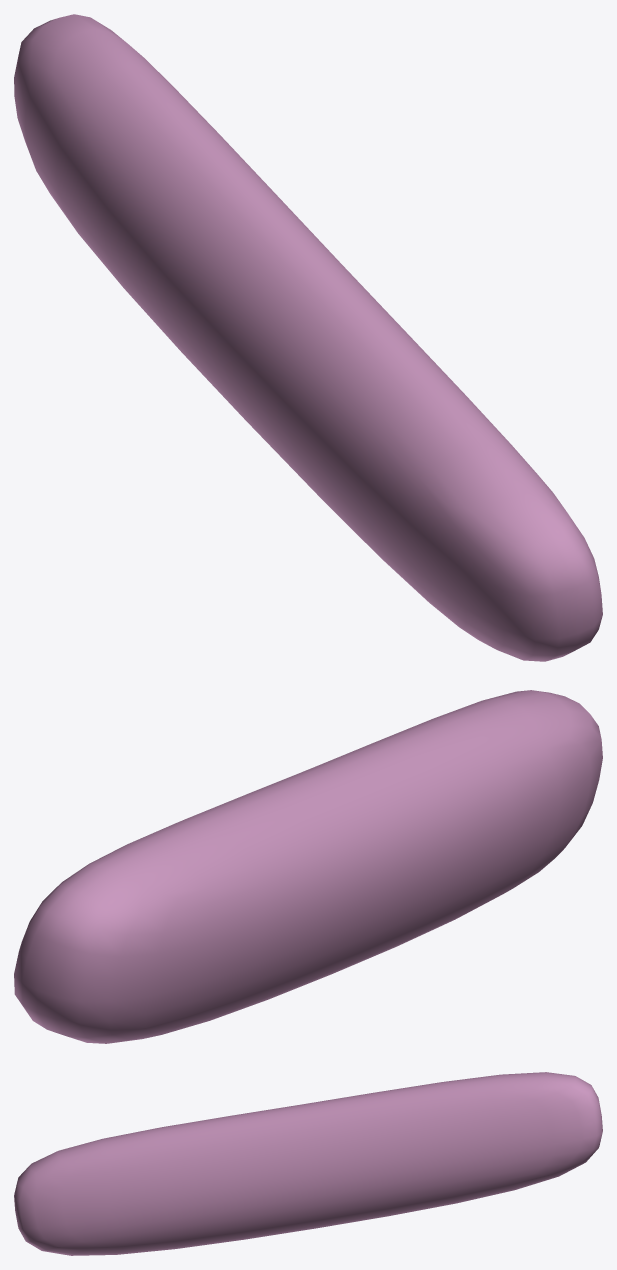
The picture shows the model from 3 angles, top to bottom: view 1: azimuth 30°, elevation 25°; view 2: azimuth 150°, elevation 25°; view 3: azimuth 270°, elevation 25°; orthographic projection. The views are drawn at different scales.
Visible parts, largest first — view 1: 右侧动眼神经核; view 2: 右侧动眼神经核; view 3: 右侧动眼神经核.
Part boxes in pixels (x1,y1,x2,y2): 右侧动眼神经核: [14, 14, 602, 661]; 右侧动眼神经核: [14, 690, 602, 1043]; 右侧动眼神经核: [14, 1072, 602, 1255].
Size of the model in its own units: 0.00196 by 0.00396 by 0.0122.
